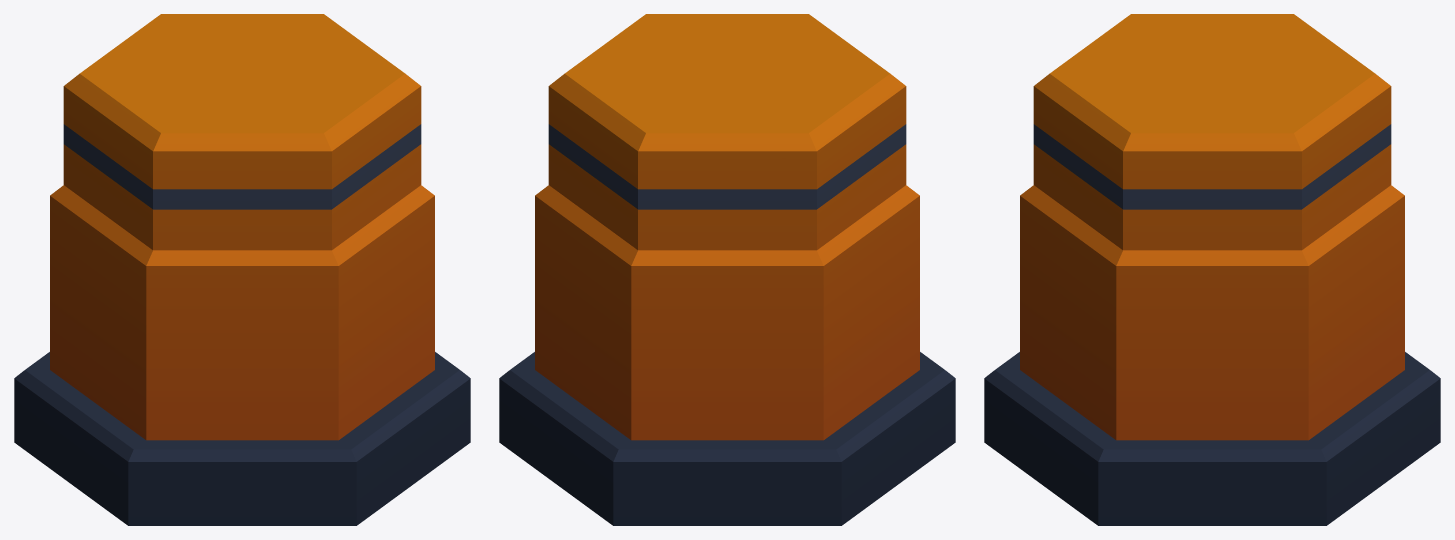
The model's file is Pillar 13.FBX.
3 renders of one model, left to right at view 1: azimuth 30°, elevation 25°; view 2: azimuth 150°, elevation 25°; view 3: azimuth 270°, elevation 25°, orthographic.
Visible parts, largest first — view 1: Pillar 13; view 2: Pillar 13; view 3: Pillar 13.
Part boxes in pixels (x1=…): Pillar 13: x1=14, y1=14, x2=470, y2=525; Pillar 13: x1=499, y1=14, x2=955, y2=525; Pillar 13: x1=984, y1=14, x2=1440, y2=525.
Bounding box in the file's own units: 280 × 288 × 323.
Materials: 1 (1 with a texture image).
